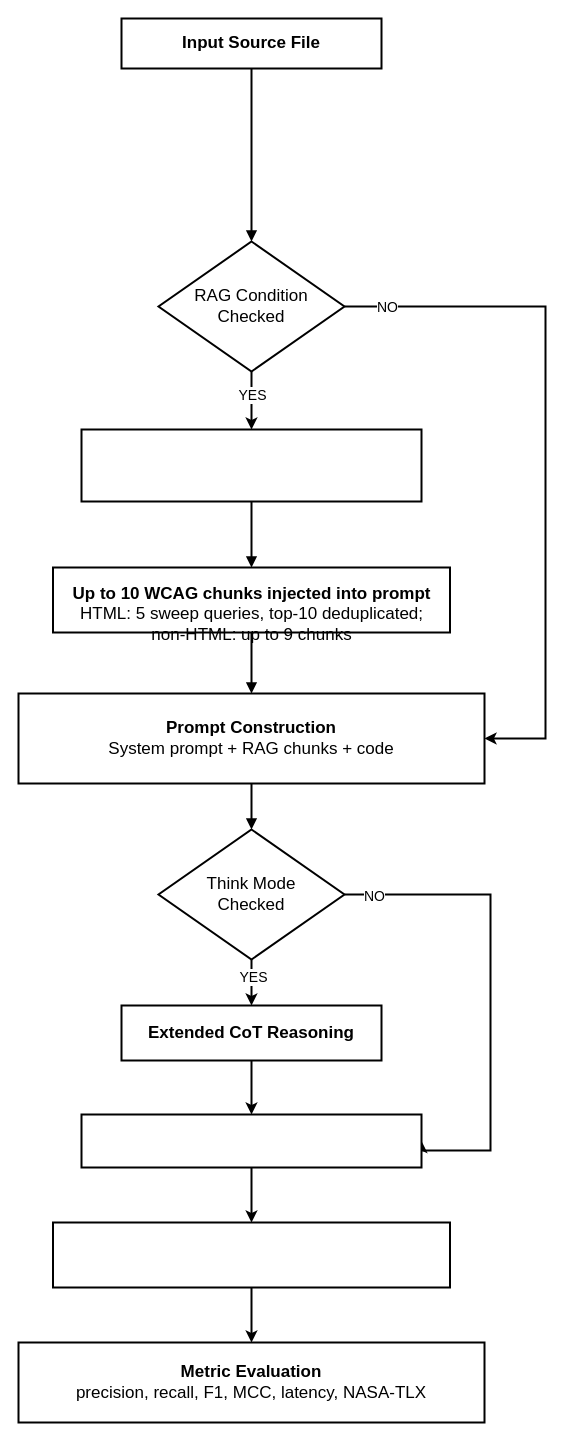
Image size: 571x1440. Some labels were removed from this diagram. The shapes that lost their labels are listed below. From the top down, each one's centre as x and y in pixels, then its label:
At point 251,465: "RAG Retrieval ChromaDB + BM25 + Dense".
At point 251,1140: "LLM Inference via Ollama Relay".
At point 251,1254: "Response Parsing Structured issue block extraction".
